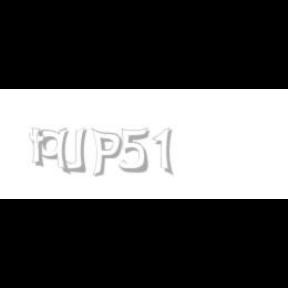1: (152, 128, 174, 176)
5: (119, 128, 150, 174)
J: (61, 128, 86, 172)
P: (90, 128, 122, 178)
q: (36, 128, 72, 176)
t: (29, 128, 51, 168)
